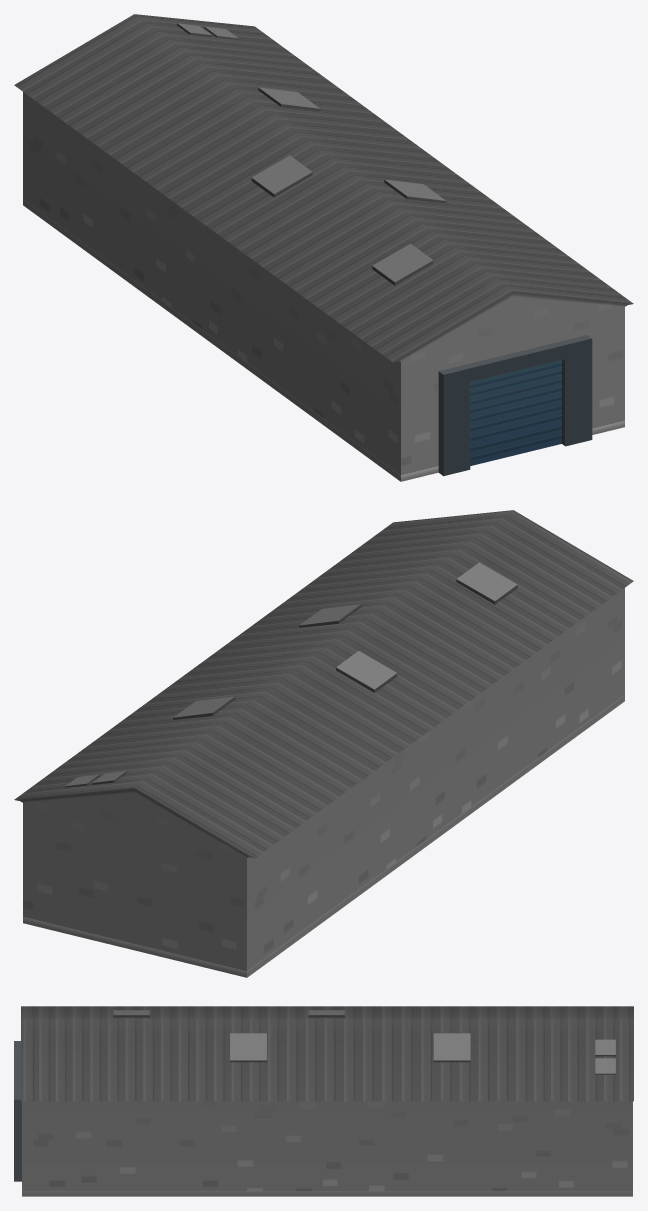
File: industrial_wearhouse_02.fbx
3 renders of one model, top to bottom at view 1: azimuth 30°, elevation 25°; view 2: azimuth 150°, elevation 25°; view 3: azimuth 270°, elevation 25°, orthographic. The views are drawn at different scales.
Visible parts, largest first — view 1: ind:wearhouse_01; view 2: ind:wearhouse_01; view 3: ind:wearhouse_01.
Boxes of the visible parts, box(x1,y1,x2,y2) form: ind:wearhouse_01: box(14, 14, 633, 481); ind:wearhouse_01: box(14, 510, 633, 977); ind:wearhouse_01: box(14, 1006, 633, 1196).
Size of the model in its own units: 8.71 by 5.64 by 24.02.
